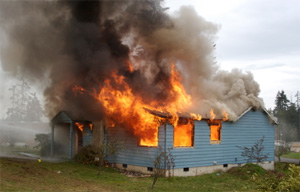fire: (84, 50, 230, 153)
